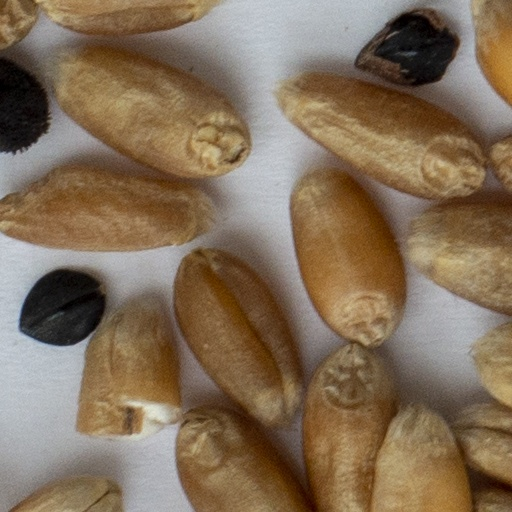Agrostemma-poly: (0, 58, 47, 150)
Fallopia-Convolvulus-poly: (356, 10, 456, 88), (20, 270, 103, 345)
Wheat-grain-damaged-poly: (77, 295, 176, 440)
Wheat-grain-poly: (10, 477, 122, 511)
